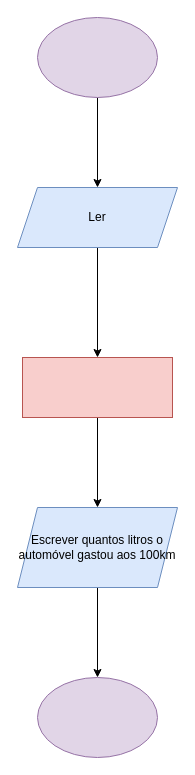
This 195x775 diagram has some shape labels left out. Here are the shapes that lost their labels. From the top down, the centre of each, then its label:
At point (97, 57): "INÍCIO".
At point (97, 717): "FIM".
